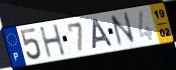4: (138, 9, 155, 43)
5: (18, 26, 43, 61)
7: (65, 21, 85, 53)
A: (91, 17, 114, 51)
H: (38, 23, 67, 60)
N: (108, 11, 138, 49)
